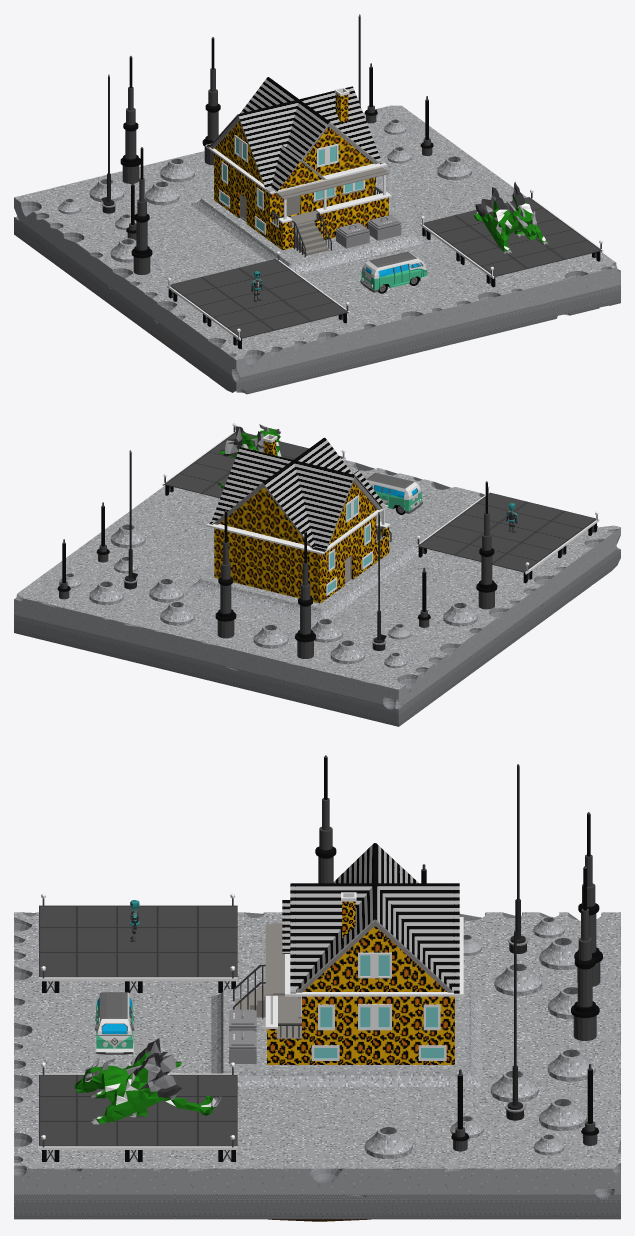
The picture shows the model from 3 angles, top to bottom: view 1: azimuth 30°, elevation 25°; view 2: azimuth 150°, elevation 25°; view 3: azimuth 270°, elevation 25°; orthographic projection. The views are drawn at different scales.
Parts seen in each view (by area): view 1: Cube.027, Cube.637, Cube.025, Cube.026, Cube.028, ANIMAL_DRAGON, VEHICLES_VAN, Cylinder.021, Cylinder.020, Cylinder.017, Cube.029, Cube.030 (+4 smaller); view 2: Cube.027, Cube.637, Cube.025, Cube.028, Cube.026, VEHICLES_VAN, Cylinder.017, Cylinder.021, Cylinder.020, ANIMAL_DRAGON, Cylinder.027, Cylinder.029 (+8 smaller); view 3: Cube.027, Cube.637, Cube.025, Cube.026, Cube.028, ANIMAL_DRAGON, Cylinder.017, VEHICLES_VAN, Cylinder.020, Cylinder.021, Cylinder.033, Cylinder.031 (+10 smaller).
Boxes of the visible parts, left/top/right/bottom form: Cube.027: left=14, top=105, right=620, bottom=394; Cube.637: left=205, top=77, right=391, bottom=256; Cube.025: left=167, top=251, right=349, bottom=348; Cube.026: left=420, top=189, right=603, bottom=287; Cube.028: left=191, top=195, right=424, bottom=273; ANIMAL_DRAGON: left=474, top=181, right=549, bottom=253; VEHICLES_VAN: left=360, top=251, right=428, bottom=293; Cylinder.021: left=131, top=147, right=152, bottom=274; Cylinder.020: left=120, top=56, right=140, bottom=183; Cylinder.017: left=202, top=37, right=220, bottom=165; Cube.029: left=336, top=222, right=369, bottom=248; Cube.030: left=367, top=215, right=401, bottom=240; Cube.027: left=14, top=460, right=620, bottom=726; Cube.637: left=206, top=434, right=391, bottom=603; Cube.025: left=416, top=485, right=599, bottom=583; Cube.028: left=189, top=537, right=418, bottom=620; Cube.026: left=162, top=423, right=345, bottom=498; VEHICLES_VAN: left=366, top=472, right=422, bottom=514; Cylinder.017: left=215, top=510, right=236, bottom=638; Cylinder.021: left=476, top=481, right=497, bottom=609; Cylinder.020: left=295, top=531, right=315, bottom=658; ANIMAL_DRAGON: left=218, top=424, right=283, bottom=488; Cylinder.027: left=253, top=624, right=288, bottom=648; Cylinder.029: left=160, top=601, right=194, bottom=625; Cube.027: left=14, top=912, right=620, bottom=1219; Cube.637: left=233, top=843, right=463, bottom=1064; Cube.025: left=39, top=893, right=237, bottom=992; Cube.026: left=39, top=1062, right=237, bottom=1161; Cube.028: left=211, top=989, right=481, bottom=1086; ANIMAL_DRAGON: left=74, top=1038, right=221, bottom=1124; Cylinder.017: left=571, top=866, right=599, bottom=1040; VEHICLES_VAN: left=94, top=992, right=134, bottom=1054; Cylinder.020: left=574, top=812, right=602, bottom=986; Cylinder.021: left=315, top=755, right=336, bottom=883; Cylinder.033: left=364, top=1126, right=412, bottom=1158; Cylinder.031: left=539, top=1098, right=586, bottom=1130.
Size of the model in its own units: 4000 by 1865 by 4000.
Materials: 40 (5 with a texture image).
